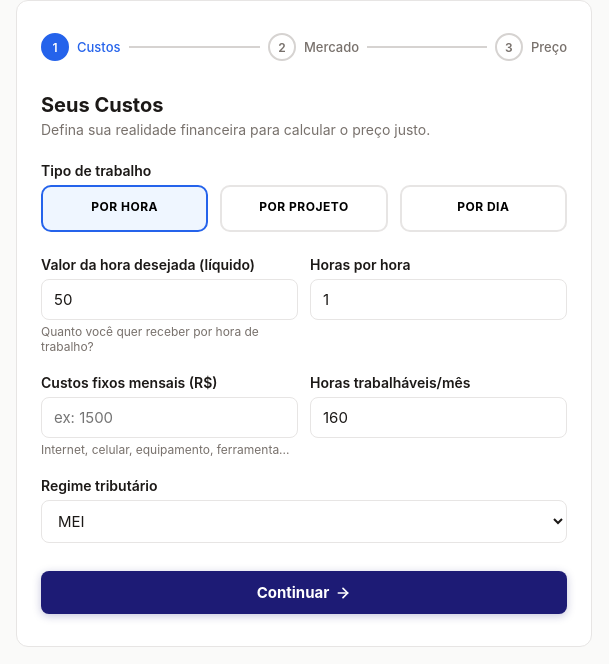
Test case: Calculator › has a back button to return to step 1 from step 2
Click the button "Continuar": (304, 592) [41,571,567,614]
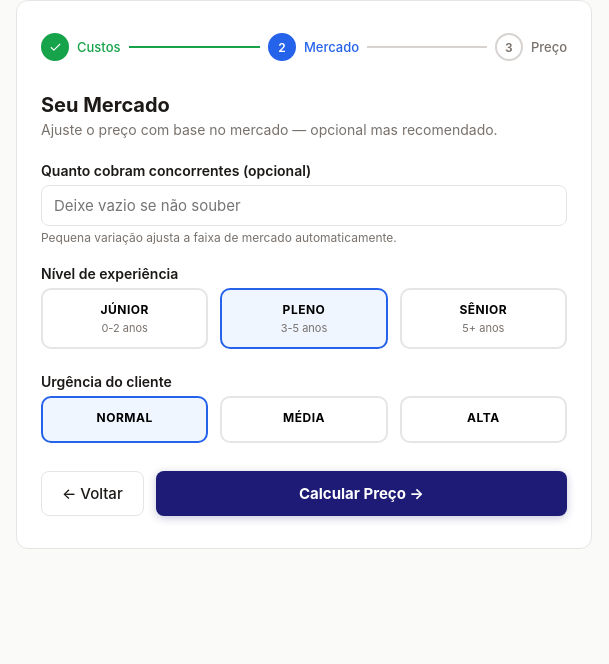
Now the button "← Voltar" is shown
Click the button "← Voltar": (92, 494) [41,471,144,516]
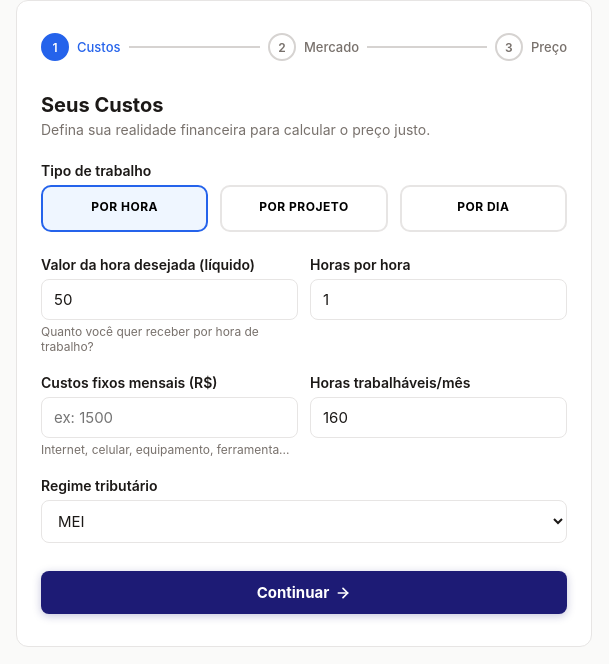
Now the heading "Seus Custos" is shown, box [41,93,164,117]
